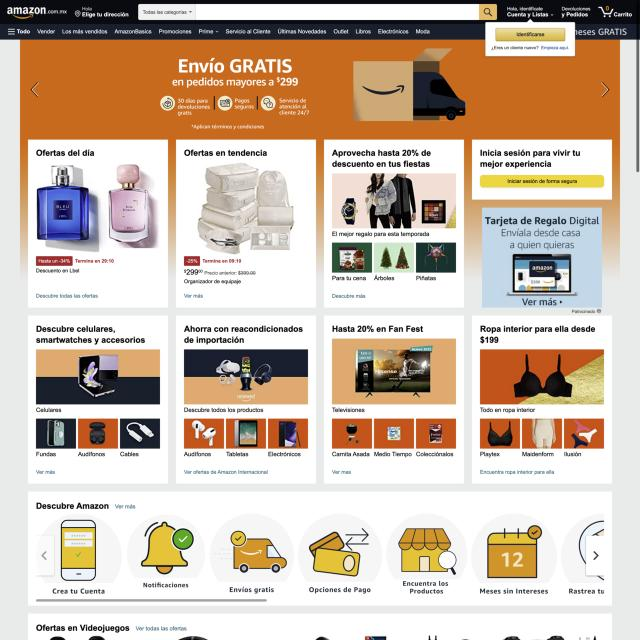CheckBox: (480, 174, 604, 189), (495, 27, 566, 42), (138, 4, 196, 20), (596, 4, 634, 20), (480, 4, 498, 20), (541, 44, 570, 51)
CheckedTextView: (138, 3, 496, 20)
EditText-: (260, 94, 312, 120), (158, 94, 212, 118), (216, 94, 255, 118)
ImageView: (482, 207, 602, 309)
RadioButton: (36, 256, 73, 266), (75, 257, 114, 265), (202, 257, 243, 264), (183, 256, 200, 266)
Spinner: (28, 315, 169, 484), (28, 139, 168, 308), (176, 140, 316, 308), (324, 139, 464, 307), (176, 315, 316, 483), (472, 315, 612, 483), (324, 316, 464, 482)
Switch: (27, 491, 612, 605), (21, 40, 620, 139)
alert: (142, 8, 194, 16)
bag: (0, 0, 640, 39)
breadcrumbs: (331, 147, 432, 171), (183, 148, 268, 159), (34, 499, 110, 511), (34, 146, 96, 160)
carousel: (482, 7, 493, 17)
date picker: (5, 6, 71, 22)
decoration: (35, 26, 431, 37), (5, 26, 32, 36)
image: (174, 56, 293, 74)
label: (486, 19, 576, 57)
